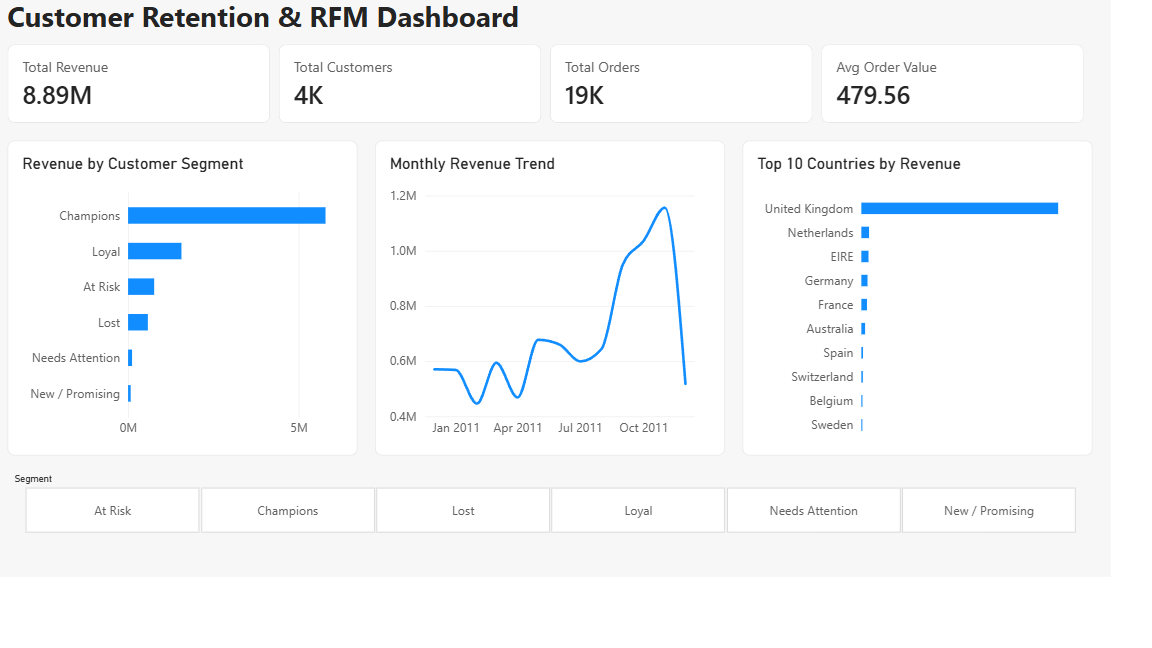

This screenshot's page, from the dashboard's own definition file:
{"tool":"powerbi","page":{"name":"Overview","canvas":[1920,1080],"ordinal":0},"visuals":[{"type":"cardVisual","fields":{"Data":["clean_retail_final.Total Revenue"]},"box":[20,70,300,90],"z":0},{"type":"cardVisual","fields":{"Data":["clean_retail_final.Total Customers"]},"box":[330,70,300,90],"z":1000},{"type":"cardVisual","fields":{"Data":["clean_retail_final.Total Orders"]},"box":[640,70,300,90],"z":2000},{"type":"cardVisual","fields":{"Data":["clean_retail_final.Avg Order Value"]},"box":[950,70,300,90],"z":3000},{"type":"clusteredBarChart","title":"Revenue by Customer Segment","fields":{"Category":["rfm_segments.Segment"],"Y":["Sum(rfm_segments.Monetary)"]},"box":[20,180,400,360],"z":4000},{"type":"lineChart","title":"Monthly Revenue Trend","fields":{"Category":["clean_retail_final.Month Start"],"Y":["clean_retail_final.Total Revenue"]},"box":[440,180,400,360],"z":5000},{"type":"slicer","fields":{"Values":["rfm_segments.Segment"]},"box":[20,560,1240,70],"z":6000},{"type":"clusteredBarChart","title":"Top 10 Countries by Revenue","fields":{"Category":["clean_retail_final.Country"],"Y":["clean_retail_final.Total Revenue"]},"box":[860,180,400,360],"z":7000},{"type":"textbox","box":[20,16,700,44],"z":7001}]}

Visuals, with their boxes in screenshot pixels (x1, y1, x2, y2), scaled from the page's 1920x1080 canvas onto the 1152x648 screenshot:
cardVisual - clean_retail_final.Total Revenue: pyautogui.locateOnScreen(12, 42, 192, 96)
cardVisual - clean_retail_final.Total Customers: pyautogui.locateOnScreen(198, 42, 378, 96)
cardVisual - clean_retail_final.Total Orders: pyautogui.locateOnScreen(384, 42, 564, 96)
cardVisual - clean_retail_final.Avg Order Value: pyautogui.locateOnScreen(570, 42, 750, 96)
"Revenue by Customer Segment" clusteredBarChart: pyautogui.locateOnScreen(12, 108, 252, 324)
"Monthly Revenue Trend" lineChart: pyautogui.locateOnScreen(264, 108, 504, 324)
slicer - rfm_segments.Segment: pyautogui.locateOnScreen(12, 336, 756, 378)
"Top 10 Countries by Revenue" clusteredBarChart: pyautogui.locateOnScreen(516, 108, 756, 324)
textbox: pyautogui.locateOnScreen(12, 10, 432, 36)
